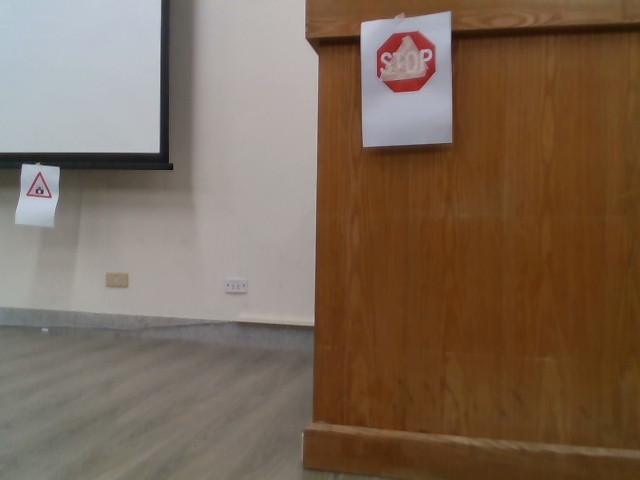stop: (371, 32, 439, 94)
